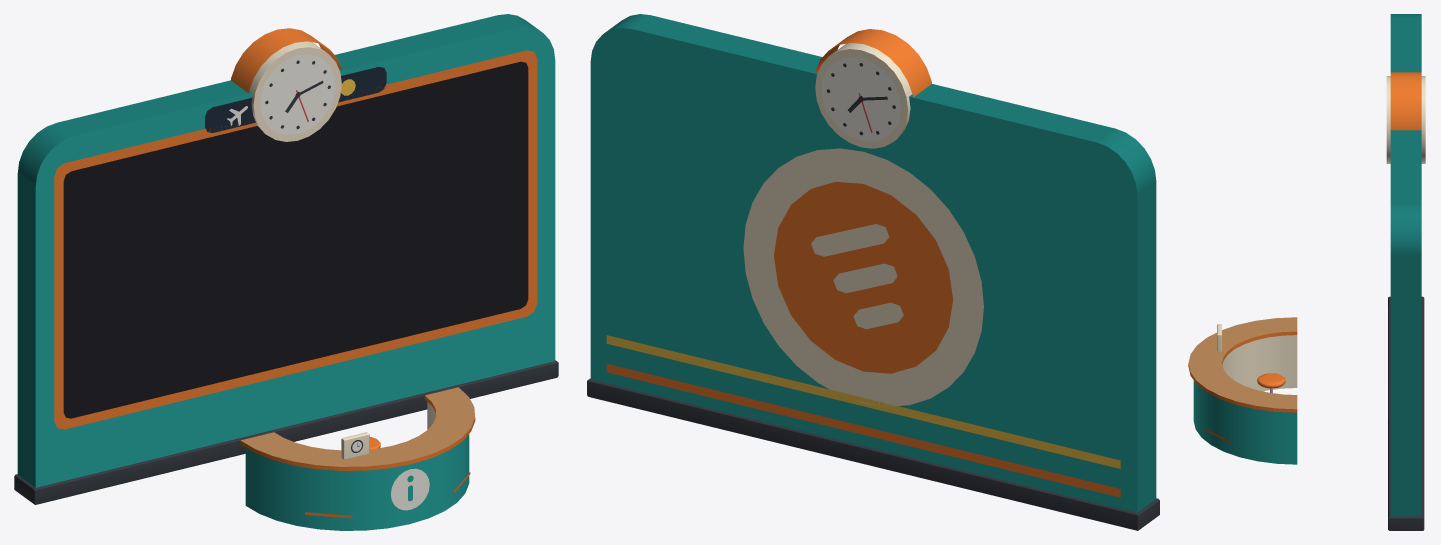
Rendered from IslaInfo.fbx.
The picture shows the model from 3 angles, left to right: view 1: azimuth 30°, elevation 25°; view 2: azimuth 150°, elevation 25°; view 3: azimuth 270°, elevation 25°; orthographic projection. The views are drawn at different scales.
Parts seen in each view (by area): view 1: IslaInfo; view 2: IslaInfo; view 3: IslaInfo.
Boxes of the visible parts, x1,y1,x2,y2 form: IslaInfo: (14, 14, 558, 530); IslaInfo: (587, 14, 1159, 530); IslaInfo: (1188, 14, 1425, 530).
Size of the model in its own units: 20.2 by 14.65 by 9.18.
1 material, 1 textured.
